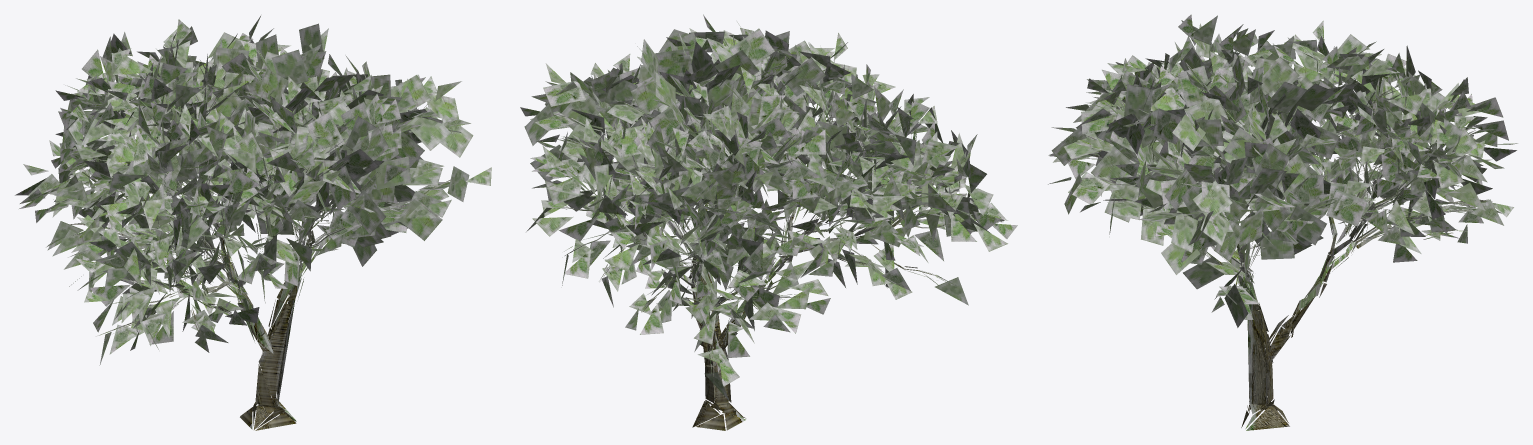
The picture shows the model from 3 angles, left to right: view 1: azimuth 30°, elevation 25°; view 2: azimuth 150°, elevation 25°; view 3: azimuth 270°, elevation 25°; orthographic projection.
Parts seen in each view (by area): view 1: pMesh1; view 2: pMesh1; view 3: pMesh1.
Part boxes in pixels (x1=…): pMesh1: x1=15, y1=16, x2=491, y2=430; pMesh1: x1=520, y1=14, x2=1017, y2=430; pMesh1: x1=1048, y1=14, x2=1517, y2=430.
Size of the model in its own units: 357 by 288 by 334.
1 material, 1 textured.
